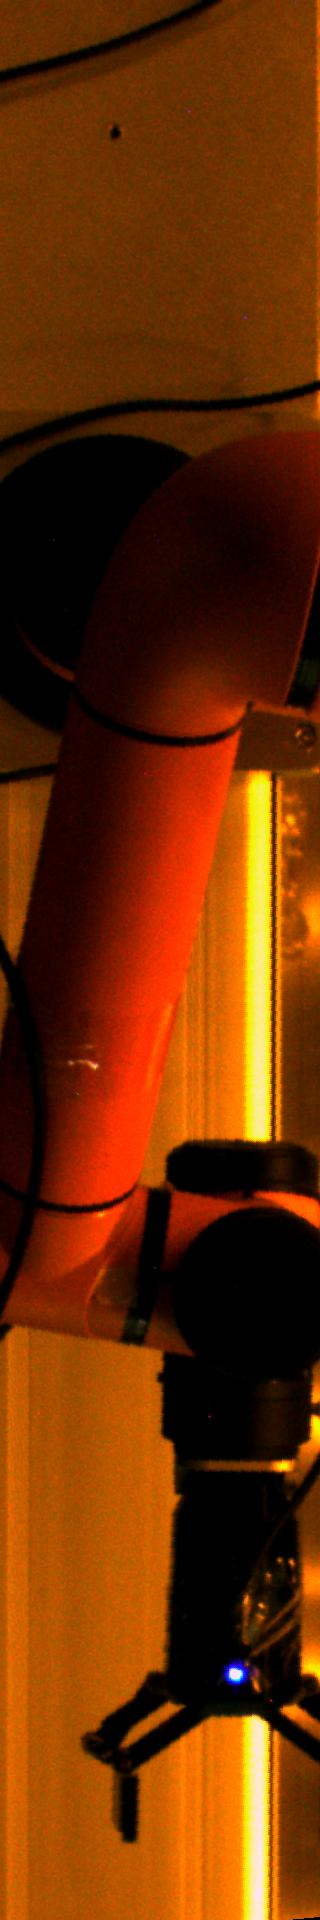keyPoint_1: (219, 1657, 250, 1687)
keyPoint_2: (99, 118, 129, 148)
